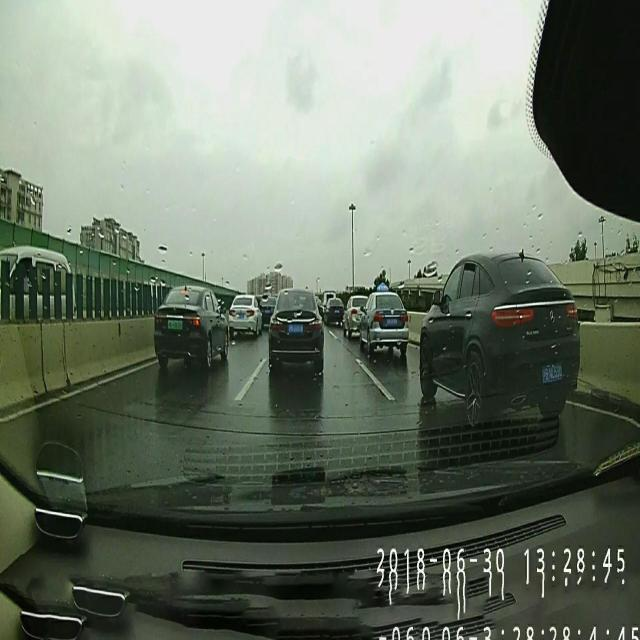car: (414, 250, 586, 426), (266, 278, 332, 378), (154, 282, 232, 366), (0, 241, 82, 320), (354, 282, 412, 357), (228, 286, 264, 339), (342, 286, 367, 336)
